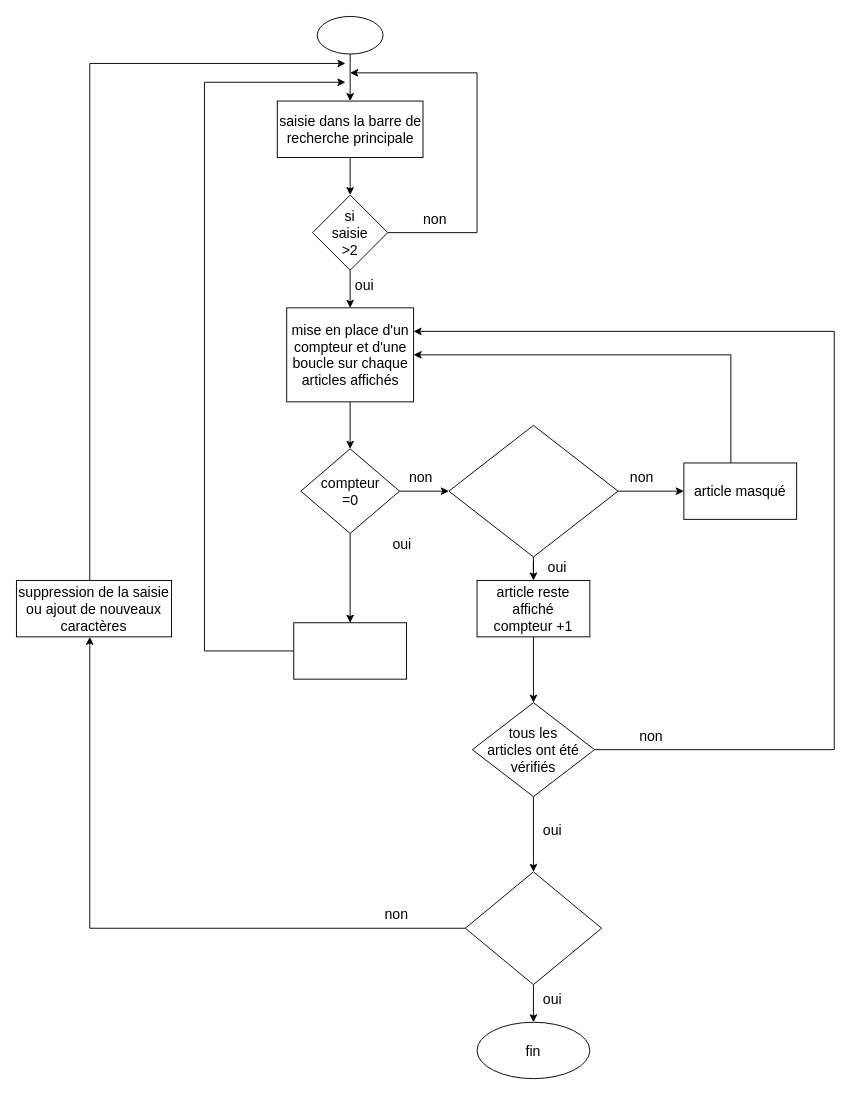
Some shapes in this 858 by 1095 pixel diagram are drawn without their labels. The centre of each missing label's shape, as x and y in pixels:
"affichage de résultat nul" goes at (x=350, y=650).
"Début" goes at (x=349, y=35).
"la/les recettes sont satisfaisante" goes at (x=533, y=928).
"si saisie = élément présent dans l'article" goes at (x=533, y=490).
